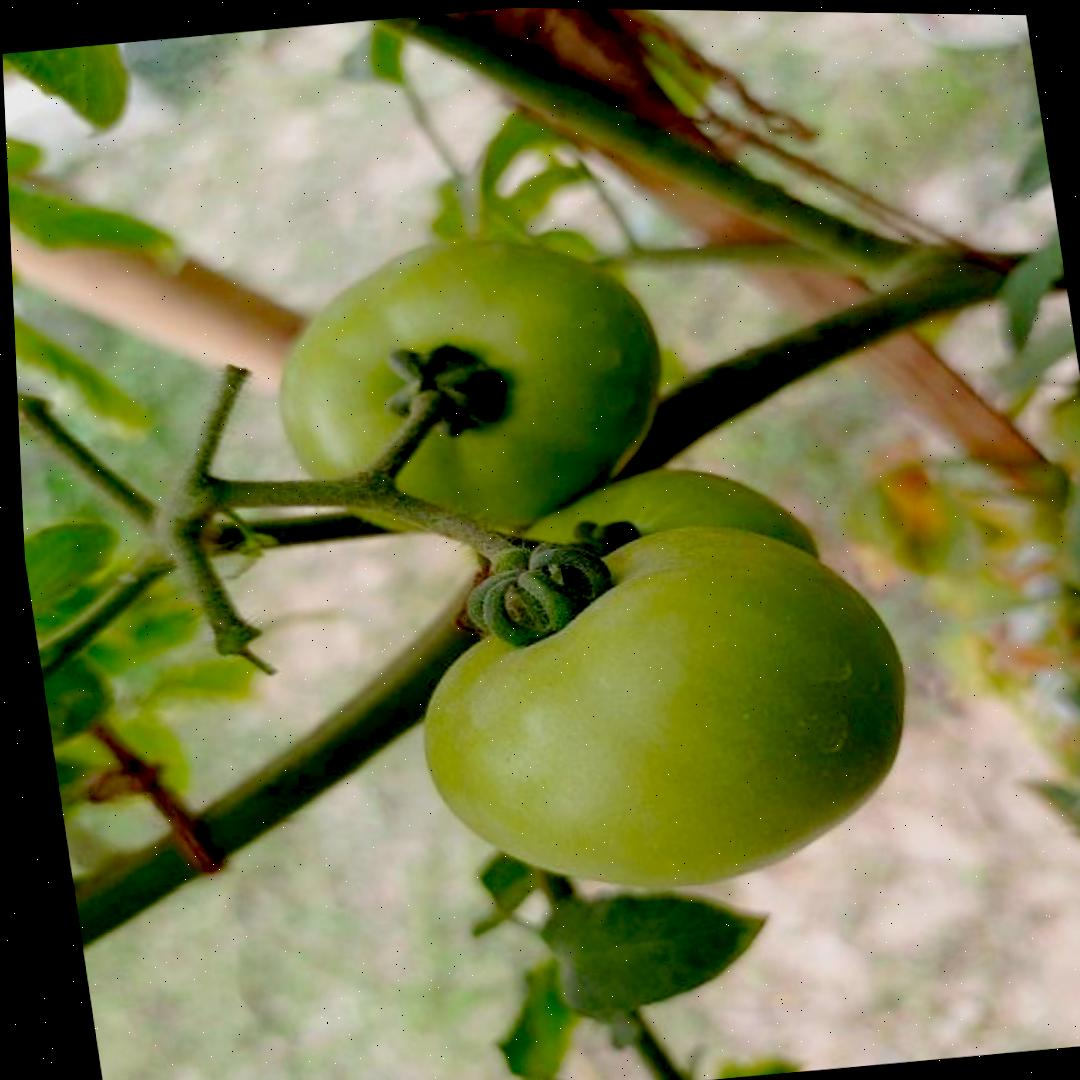mentah: (388, 498, 935, 917), (246, 216, 681, 554)
